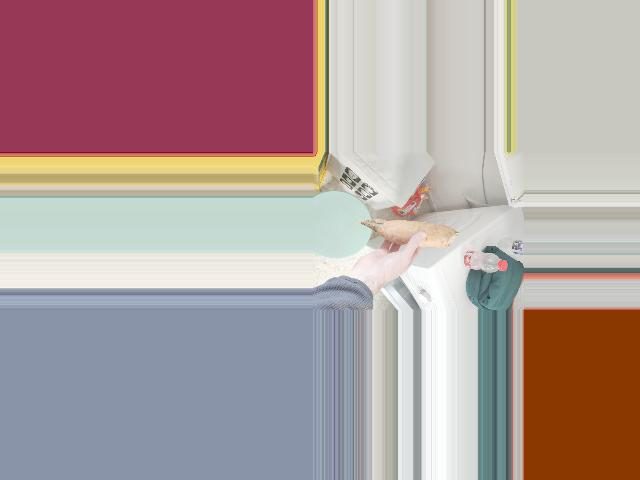sweet_potato: (358, 219, 451, 246)
